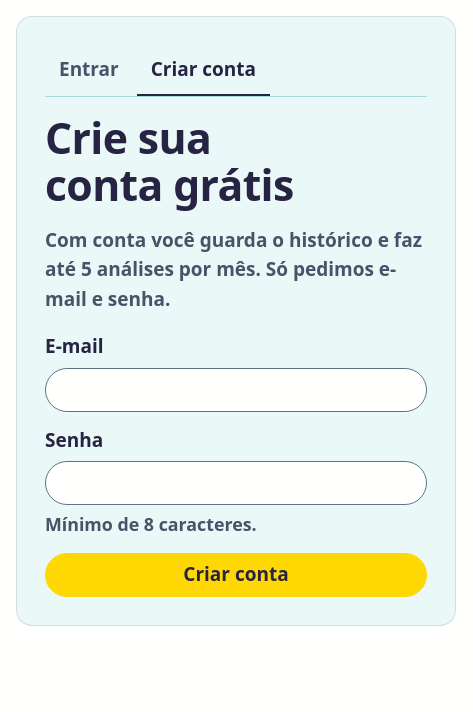
Scenario: Login (criar conta) › e-mail já cadastrado: mostra a mensagem do servidor
Type "voce@exemplo.com" into the field labelled "E-mail".
click(236, 390); type("voce@exemplo.com")  # box [45,368,427,412]
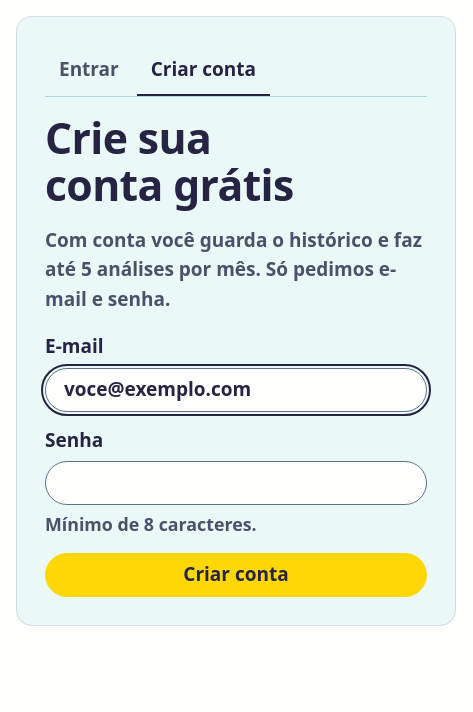
Type "12345678" into the password field labelled "Senha".
click(236, 483); type("12345678")  # box [45,461,427,505]
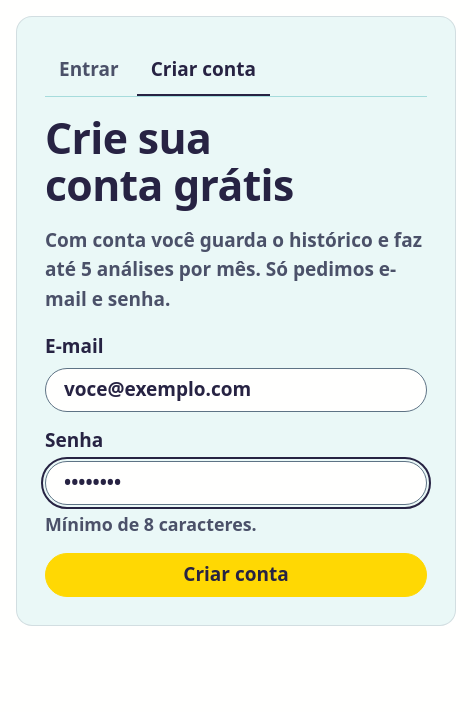
Click the button "Criar conta".
click(236, 574)  # box [45,552,427,596]
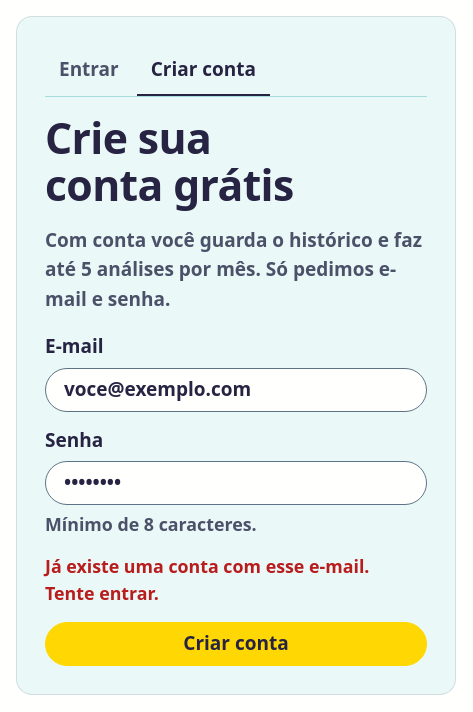
Check: the message reads "Já existe uma conta com esse e-mail. Tente entrar.", box [45,554,369,605]
